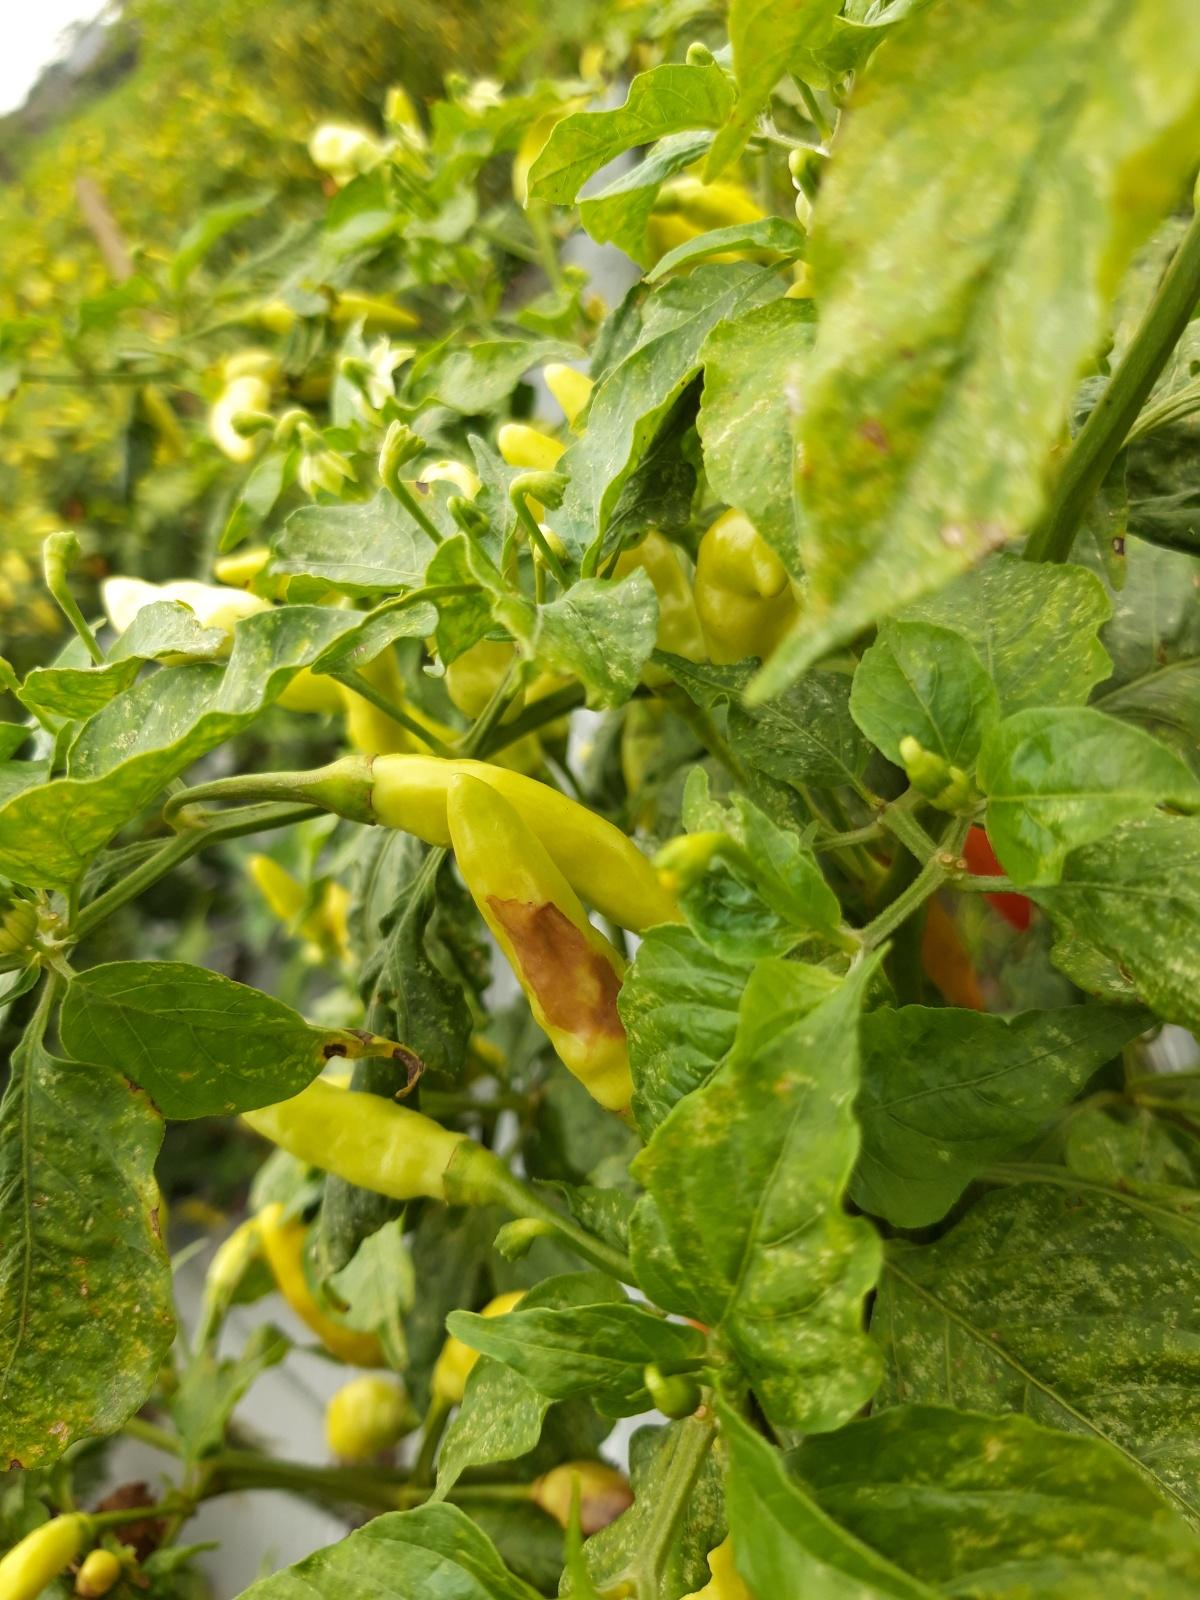cabai_normal: (348, 743, 689, 918), (222, 1066, 489, 1209)
lalat_buah: (445, 770, 647, 1121)
